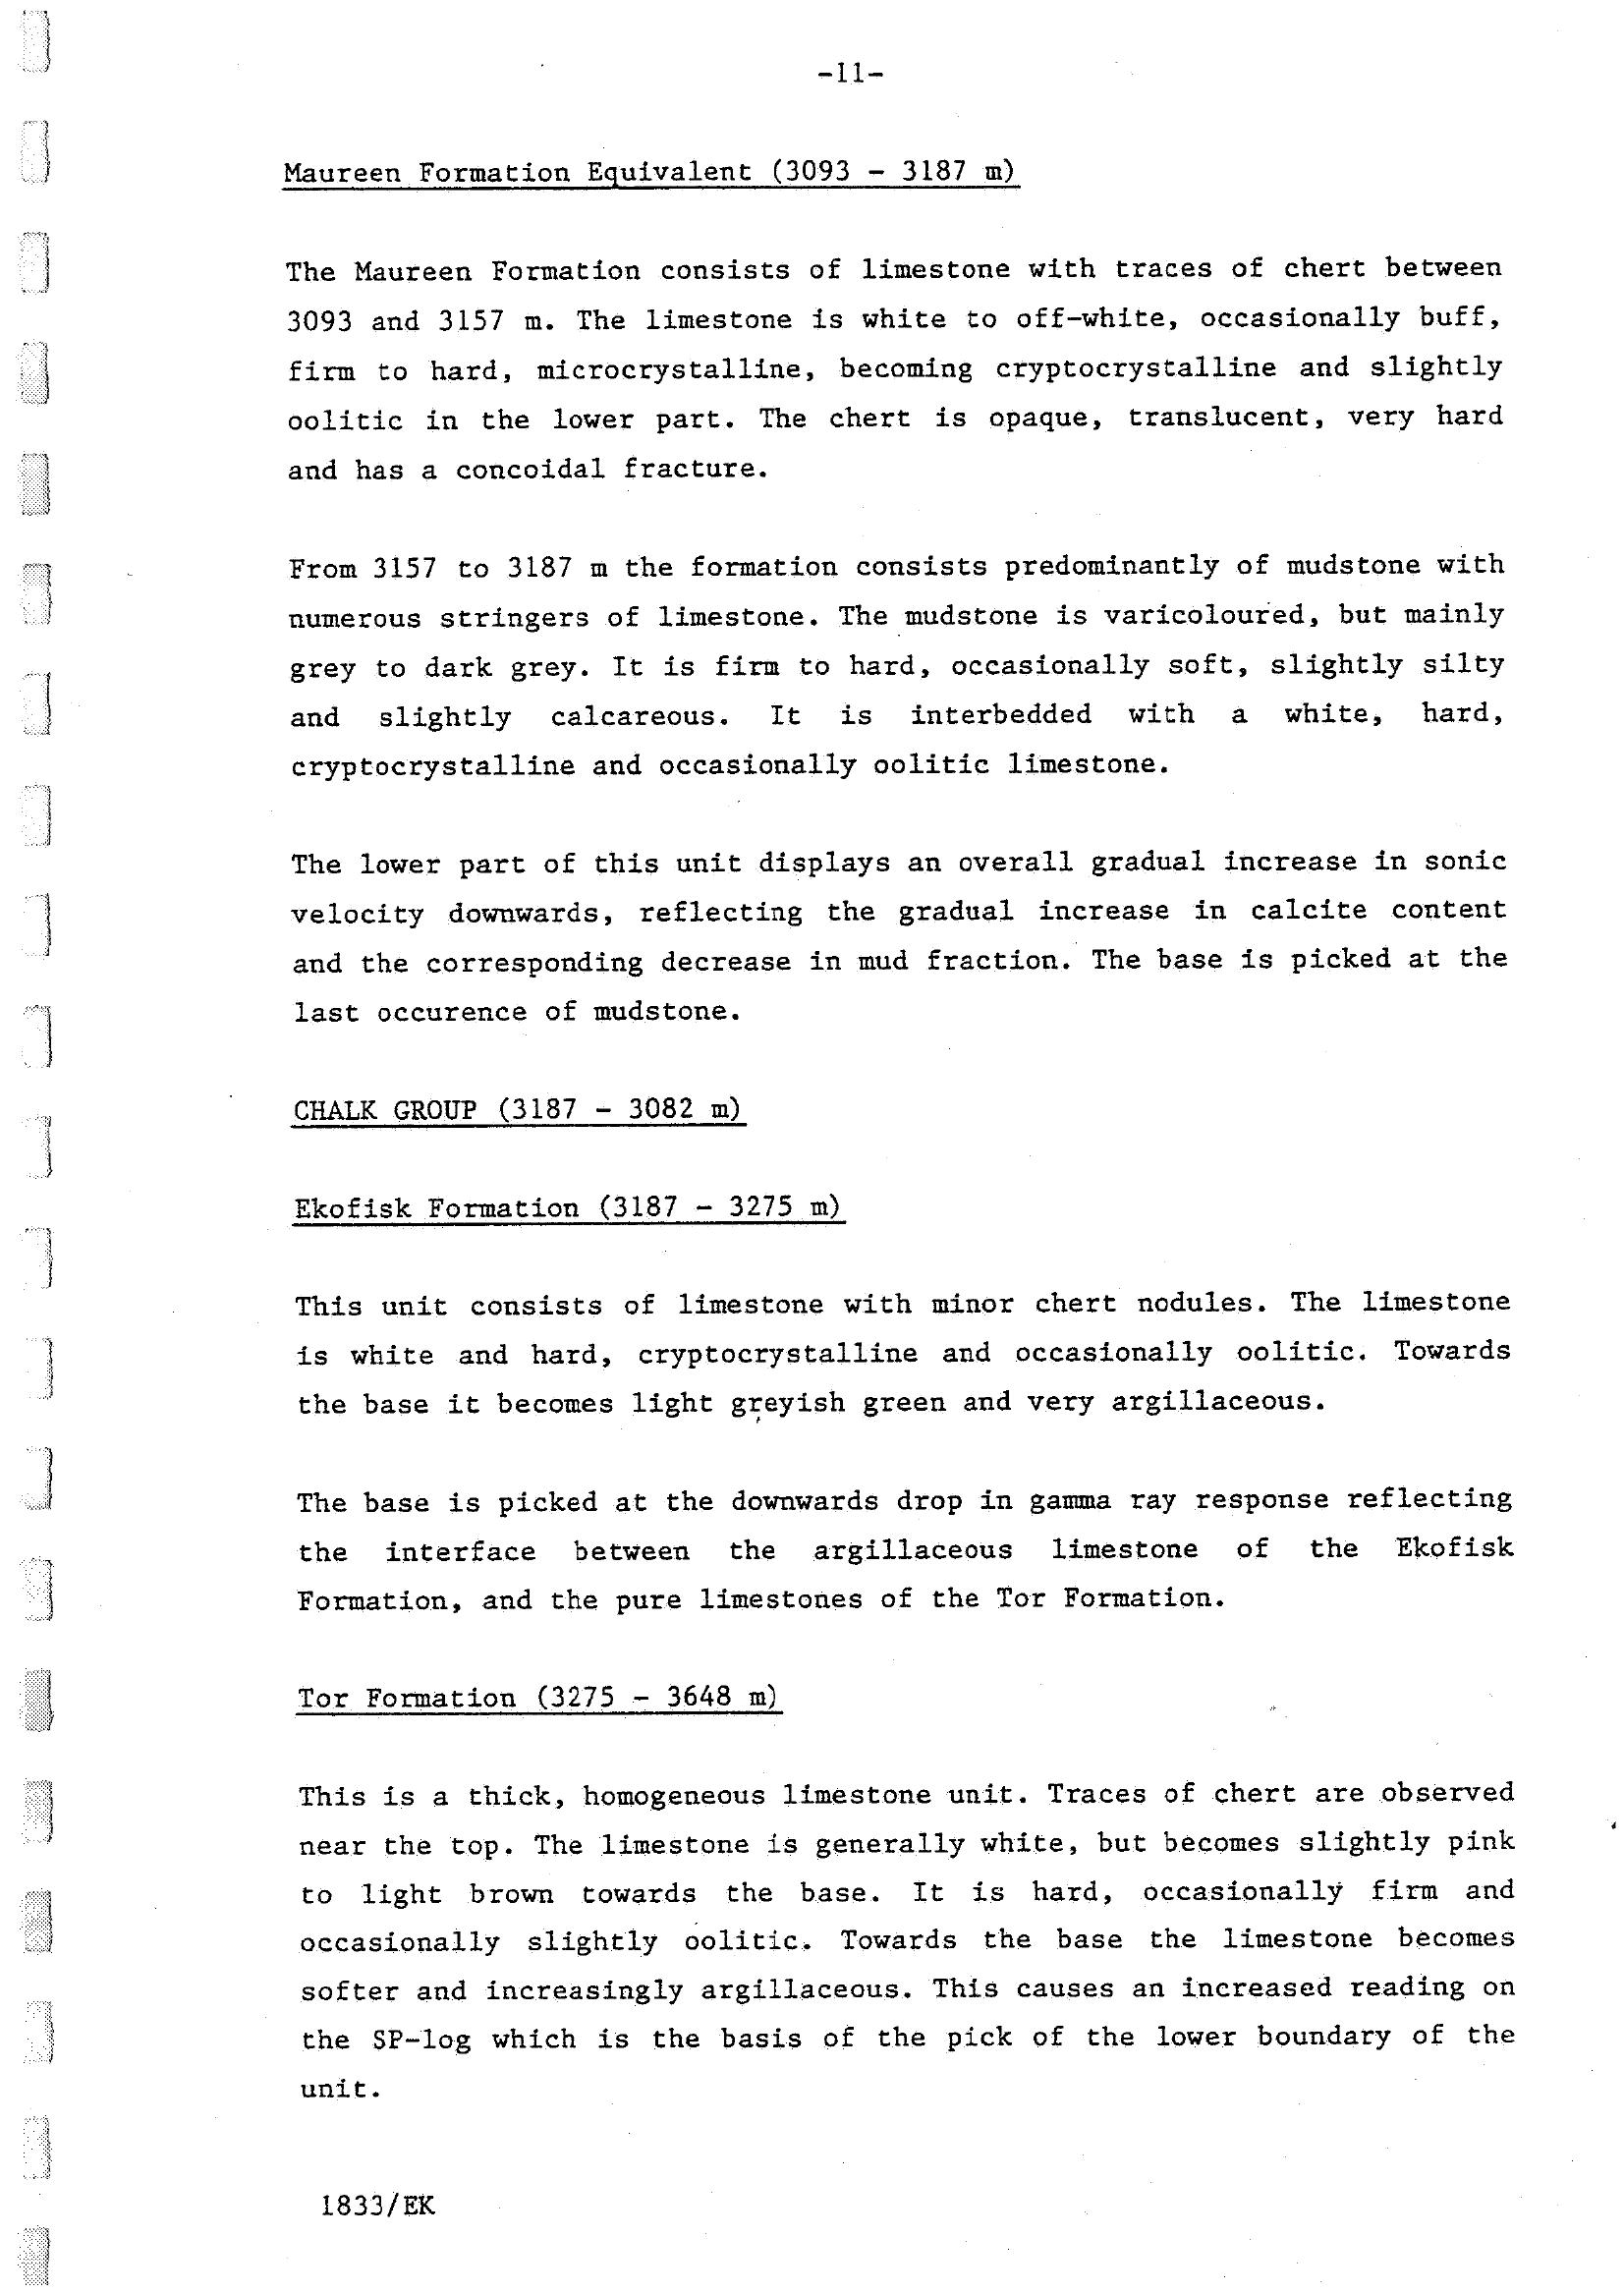text: (243, 144, 1543, 2131)
